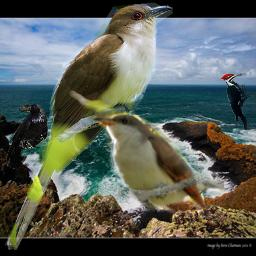Crow: (6, 104, 48, 169)
Cuckoo: (5, 2, 173, 250), (88, 103, 224, 215)
Woodpecker: (221, 72, 255, 130)
